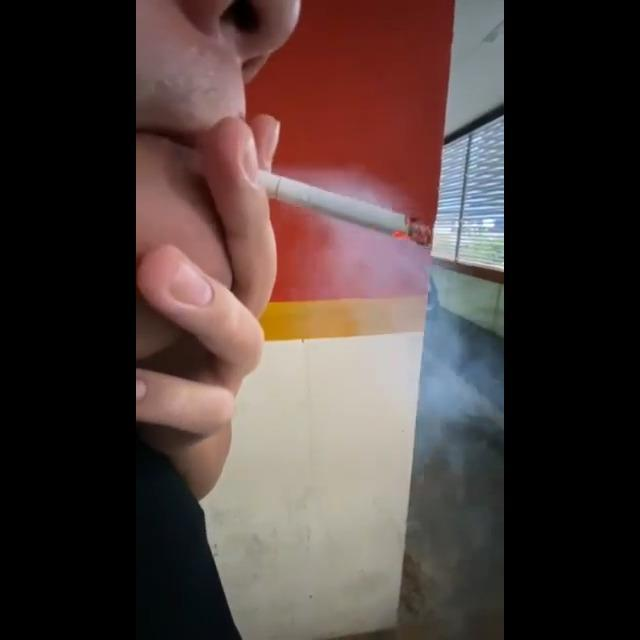rokok: (260, 165, 428, 245)
